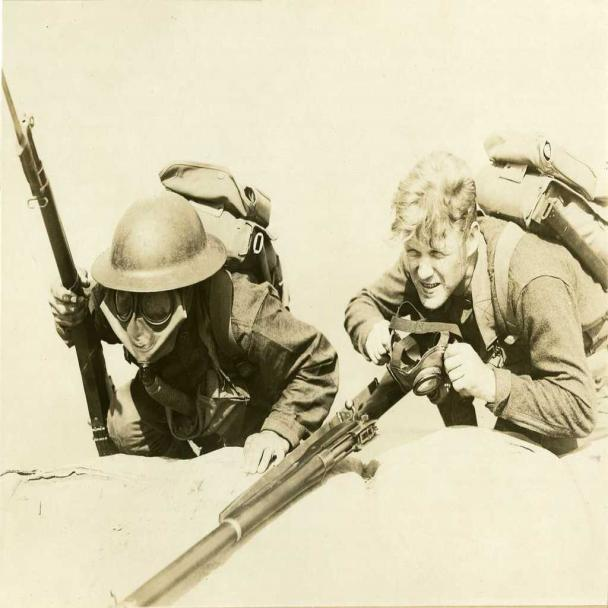Gun: (61, 329, 454, 607), (0, 55, 139, 466)
Hand: (437, 333, 517, 419), (230, 414, 300, 482), (362, 311, 406, 374)
